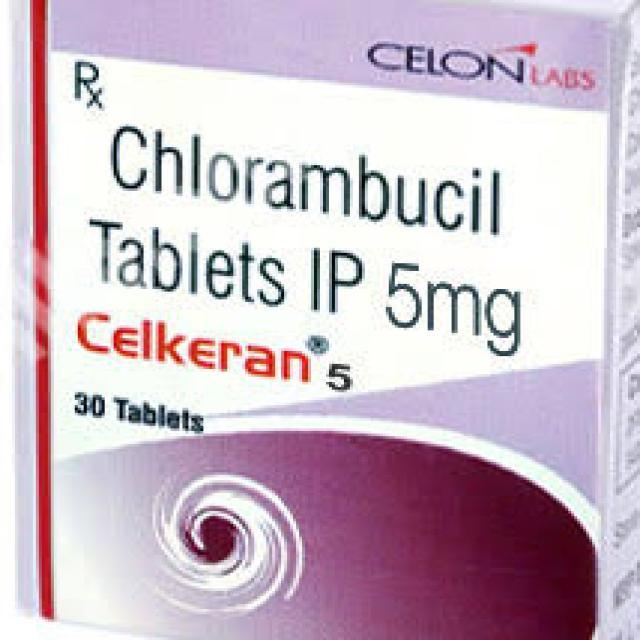drug-name: (74, 307, 361, 395)
